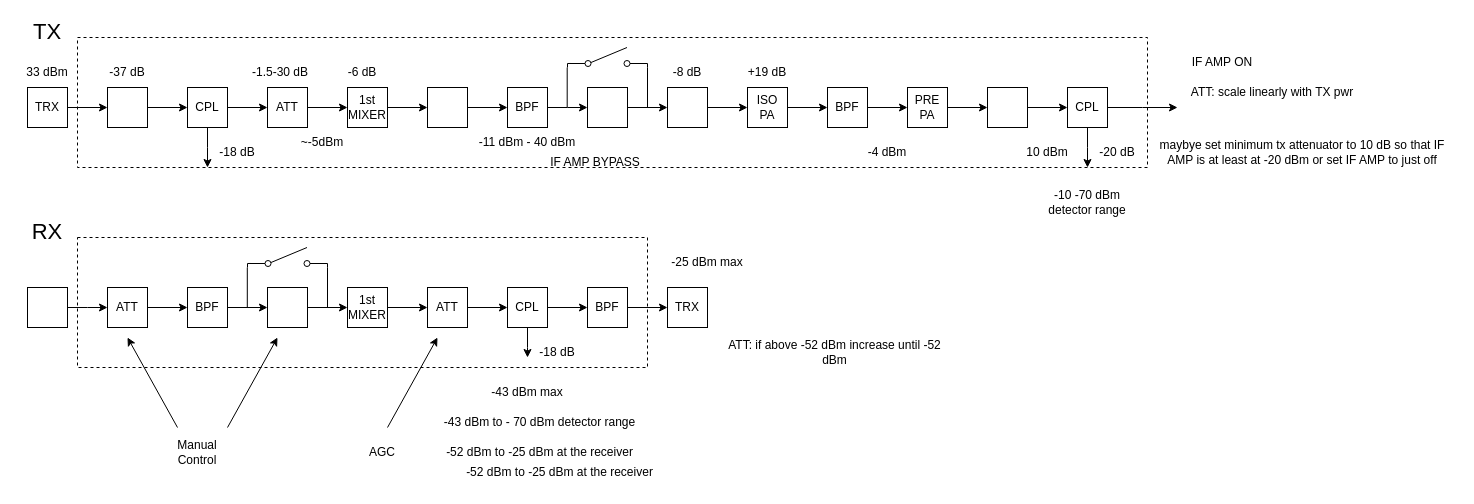
Image size: 1474x504. Some labels were removed from this diagram. Each missing label, with the box of its shape:
2nd MIXER: (666, 86, 708, 128)
ATT BPF: (106, 86, 148, 128)
IF AMP: (586, 86, 628, 128)
LNB: (26, 286, 68, 328)
LPF: (986, 86, 1028, 128)
RX AMP: (266, 286, 308, 328)
TRI PLEX: (426, 86, 468, 128)
